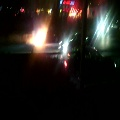fire: (26, 24, 48, 48)
